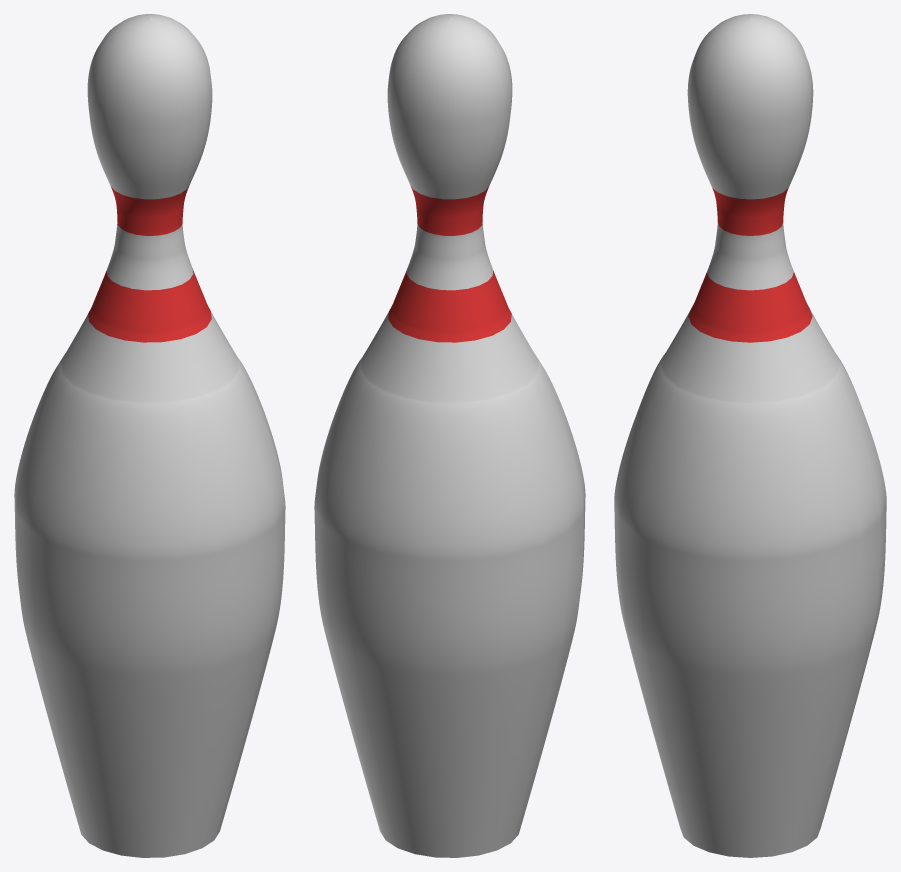
File: kegel.fbx
3 views of the same model, side by side, from view 1: azimuth 30°, elevation 25°; view 2: azimuth 150°, elevation 25°; view 3: azimuth 270°, elevation 25° (orthographic).
Visible parts, largest first — view 1: Lathe; view 2: Lathe; view 3: Lathe.
Part boxes in pixels (<box>): Lathe: <box>14,14,285,857</box>; Lathe: <box>314,14,585,857</box>; Lathe: <box>614,14,886,857</box>.
Bounding box in the file's own units: 199 × 652 × 199.
